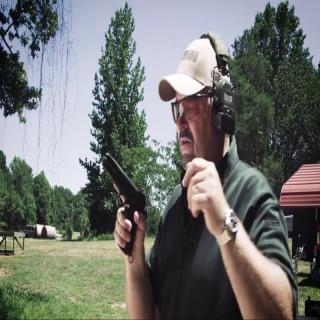gun: (100, 146, 146, 262)
